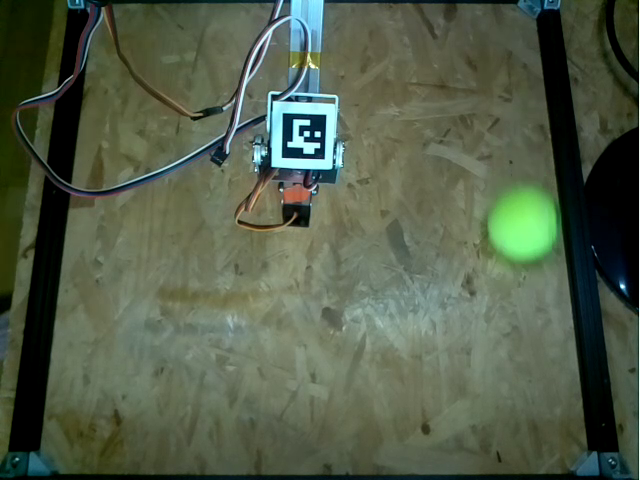tennis_ball: (486, 184, 560, 263)
